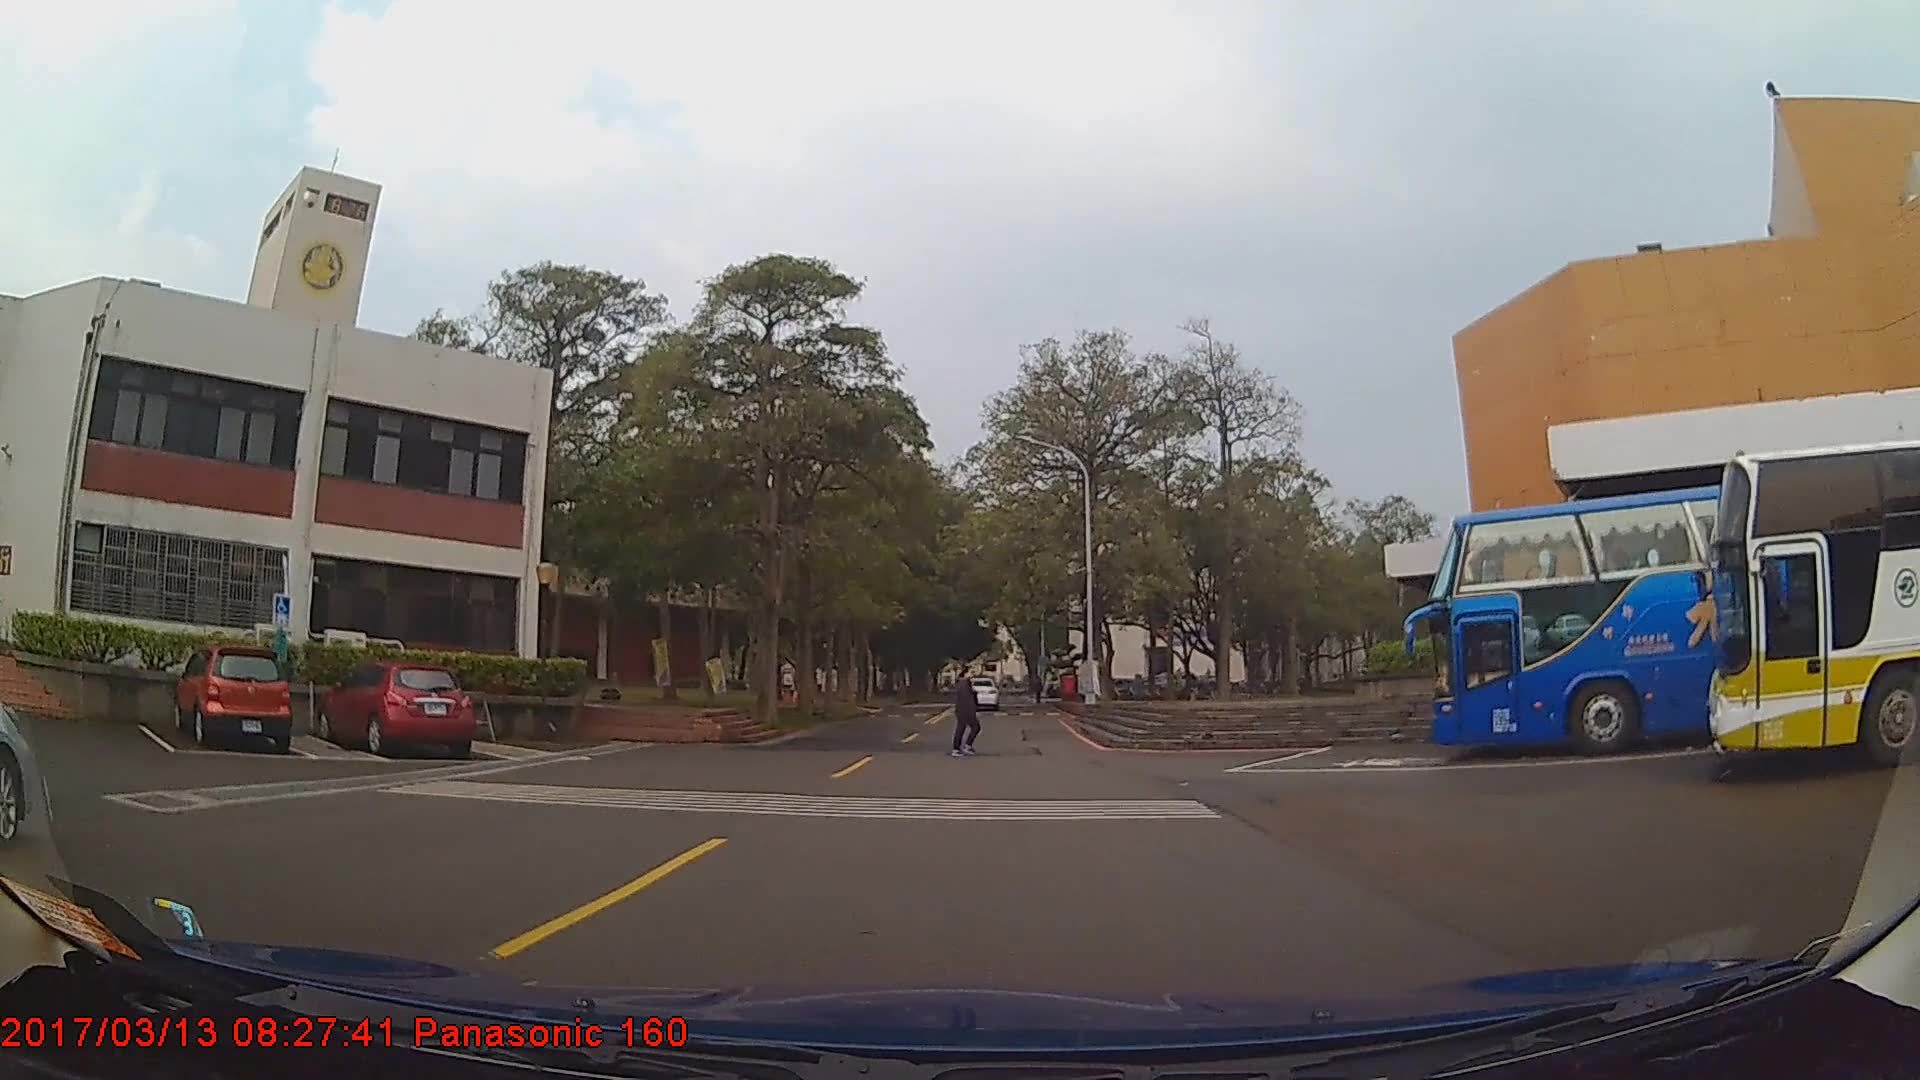pedestrian: (944, 664, 989, 758)
vehicle: (1433, 461, 1920, 758), (1710, 432, 1920, 771), (314, 663, 472, 758), (171, 644, 292, 754), (960, 677, 1000, 710)
